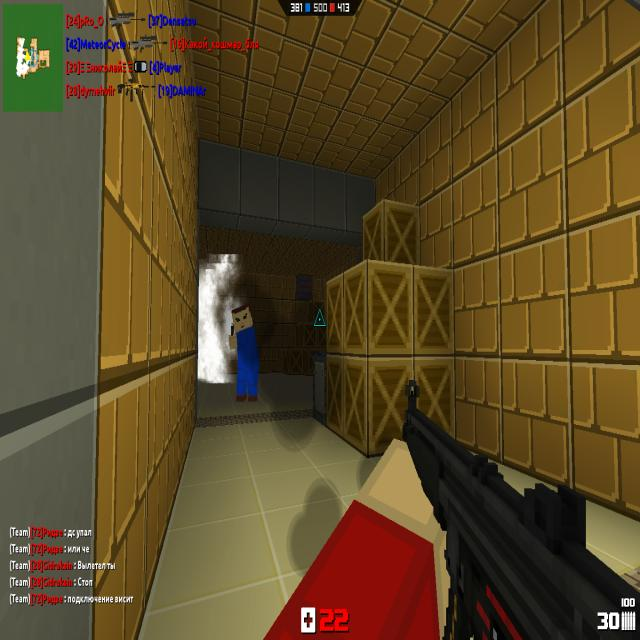enemy: (228, 301, 260, 402)
